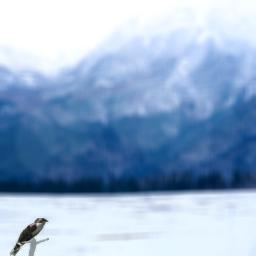Cuckoo: (9, 218, 49, 256)
